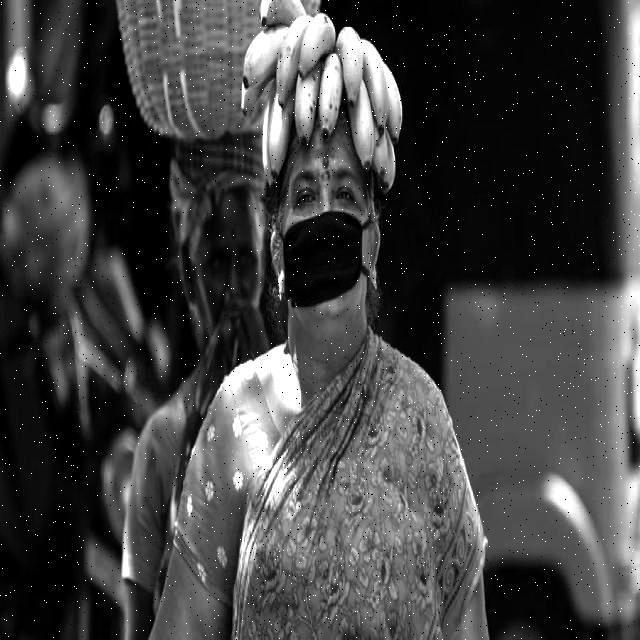mask: (268, 218, 372, 306)
no_gloves: (231, 0, 414, 168)
